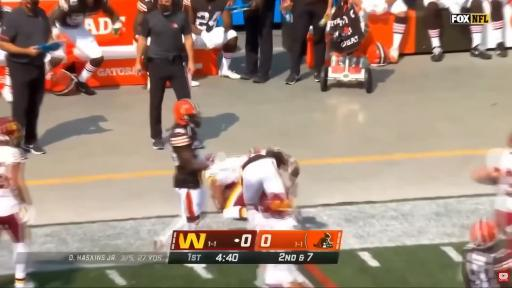Helmet: (470, 218, 498, 246), (174, 99, 201, 127), (263, 196, 293, 221), (50, 70, 77, 95), (0, 117, 22, 145), (367, 42, 387, 66)
Jersey: (462, 242, 510, 287), (170, 124, 201, 188), (0, 146, 23, 216), (486, 150, 511, 214), (56, 0, 107, 27), (184, 0, 227, 32), (205, 156, 248, 185), (242, 150, 285, 169), (137, 0, 157, 12), (0, 6, 11, 26)
Player: (155, 99, 212, 249), (49, 0, 122, 95), (0, 118, 33, 287), (184, 0, 240, 79), (242, 148, 299, 225), (472, 150, 511, 248), (424, 0, 483, 61), (353, 0, 407, 63), (462, 219, 510, 287), (205, 155, 249, 219), (204, 156, 248, 219), (467, 0, 507, 57), (259, 264, 310, 287), (471, 150, 505, 184), (133, 0, 157, 41), (2, 68, 12, 102)
